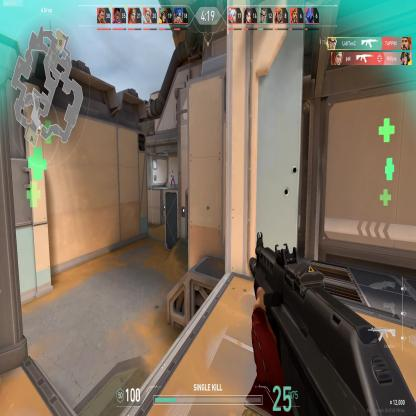enemy: (170, 170, 176, 190)
